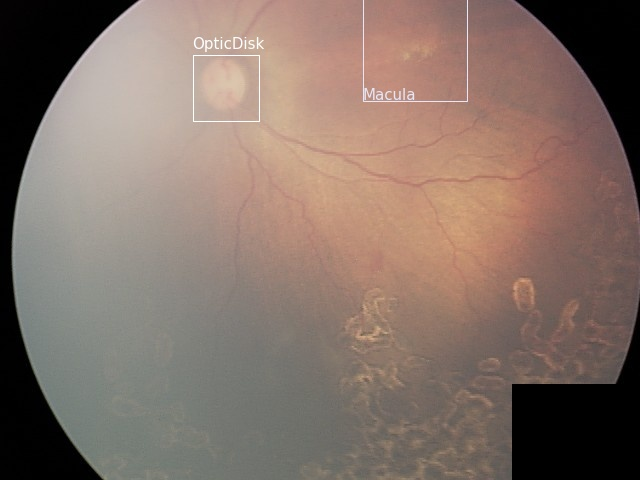OpticDisk: (192, 54, 258, 120)
